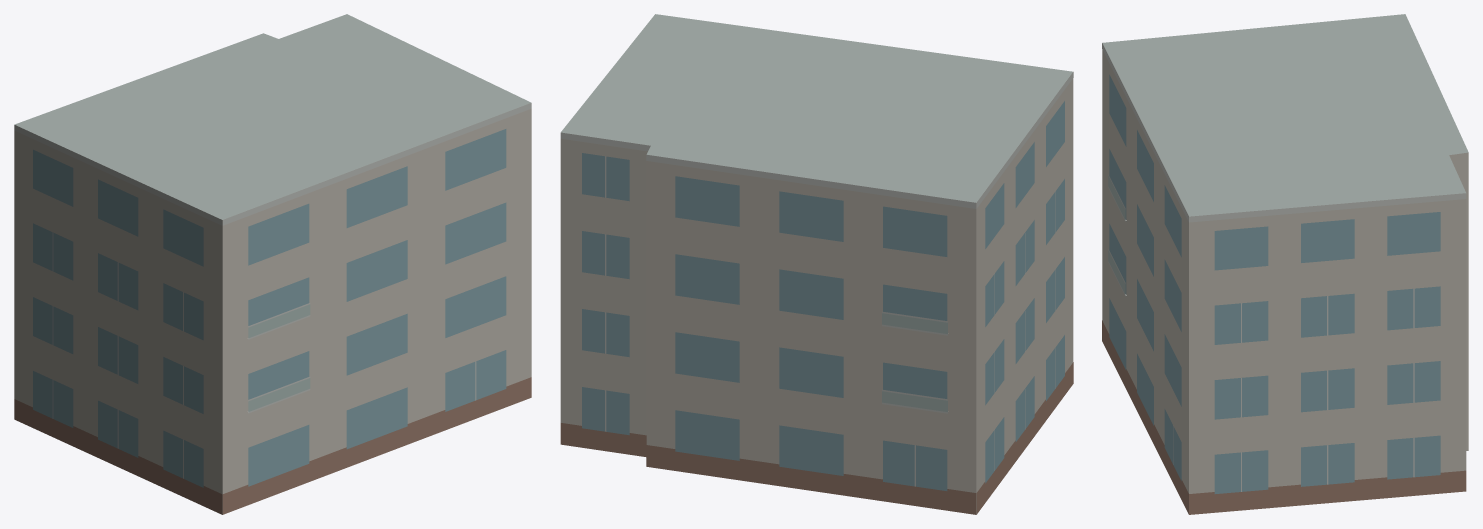
File: survey-upis-32619843.glb
The picture shows the model from 3 angles, left to right: view 1: azimuth 30°, elevation 25°; view 2: azimuth 150°, elevation 25°; view 3: azimuth 270°, elevation 25°; orthographic projection. The views are drawn at different scales.
Visible parts, largest first — view 1: survey-upis-32619843.tmp; view 2: survey-upis-32619843.tmp; view 3: survey-upis-32619843.tmp.
Boxes of the visible parts, left/top/right/bottom form: survey-upis-32619843.tmp: left=14, top=14, right=531, bottom=514; survey-upis-32619843.tmp: left=560, top=14, right=1073, bottom=514; survey-upis-32619843.tmp: left=1102, top=14, right=1468, bottom=514.
Size of the model in its own units: 17.93 by 12.3 by 13.71.
